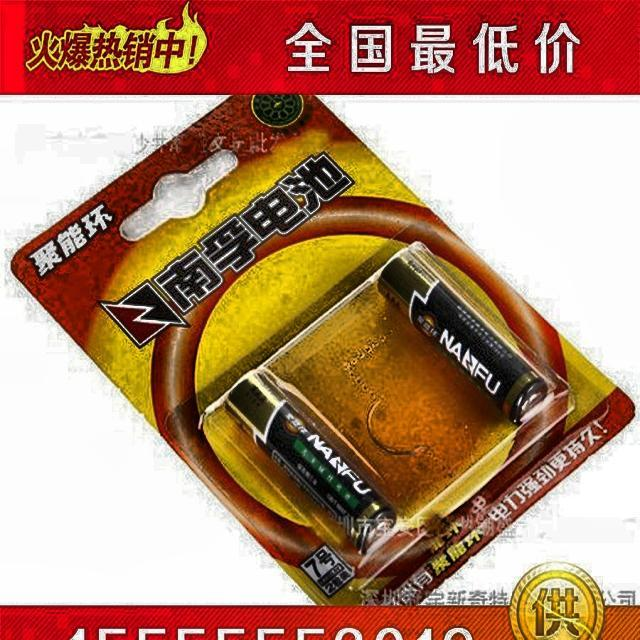battery: (379, 242, 556, 424), (226, 368, 396, 553)
